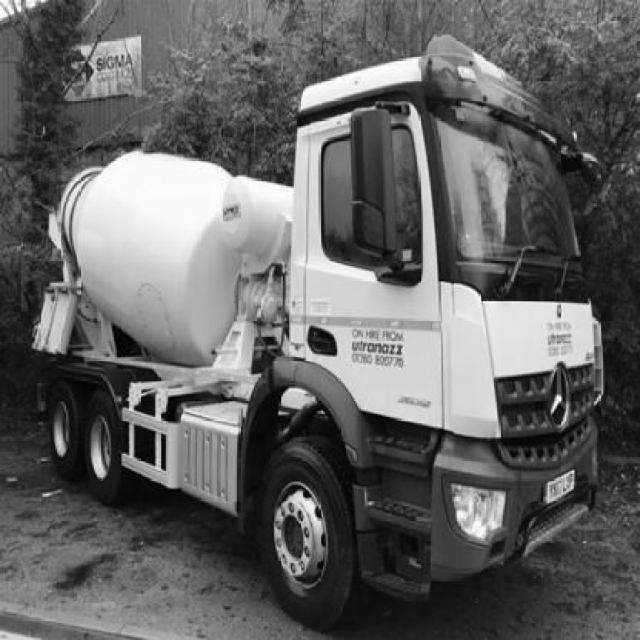Concrete Mixer: (30, 35, 606, 634)
